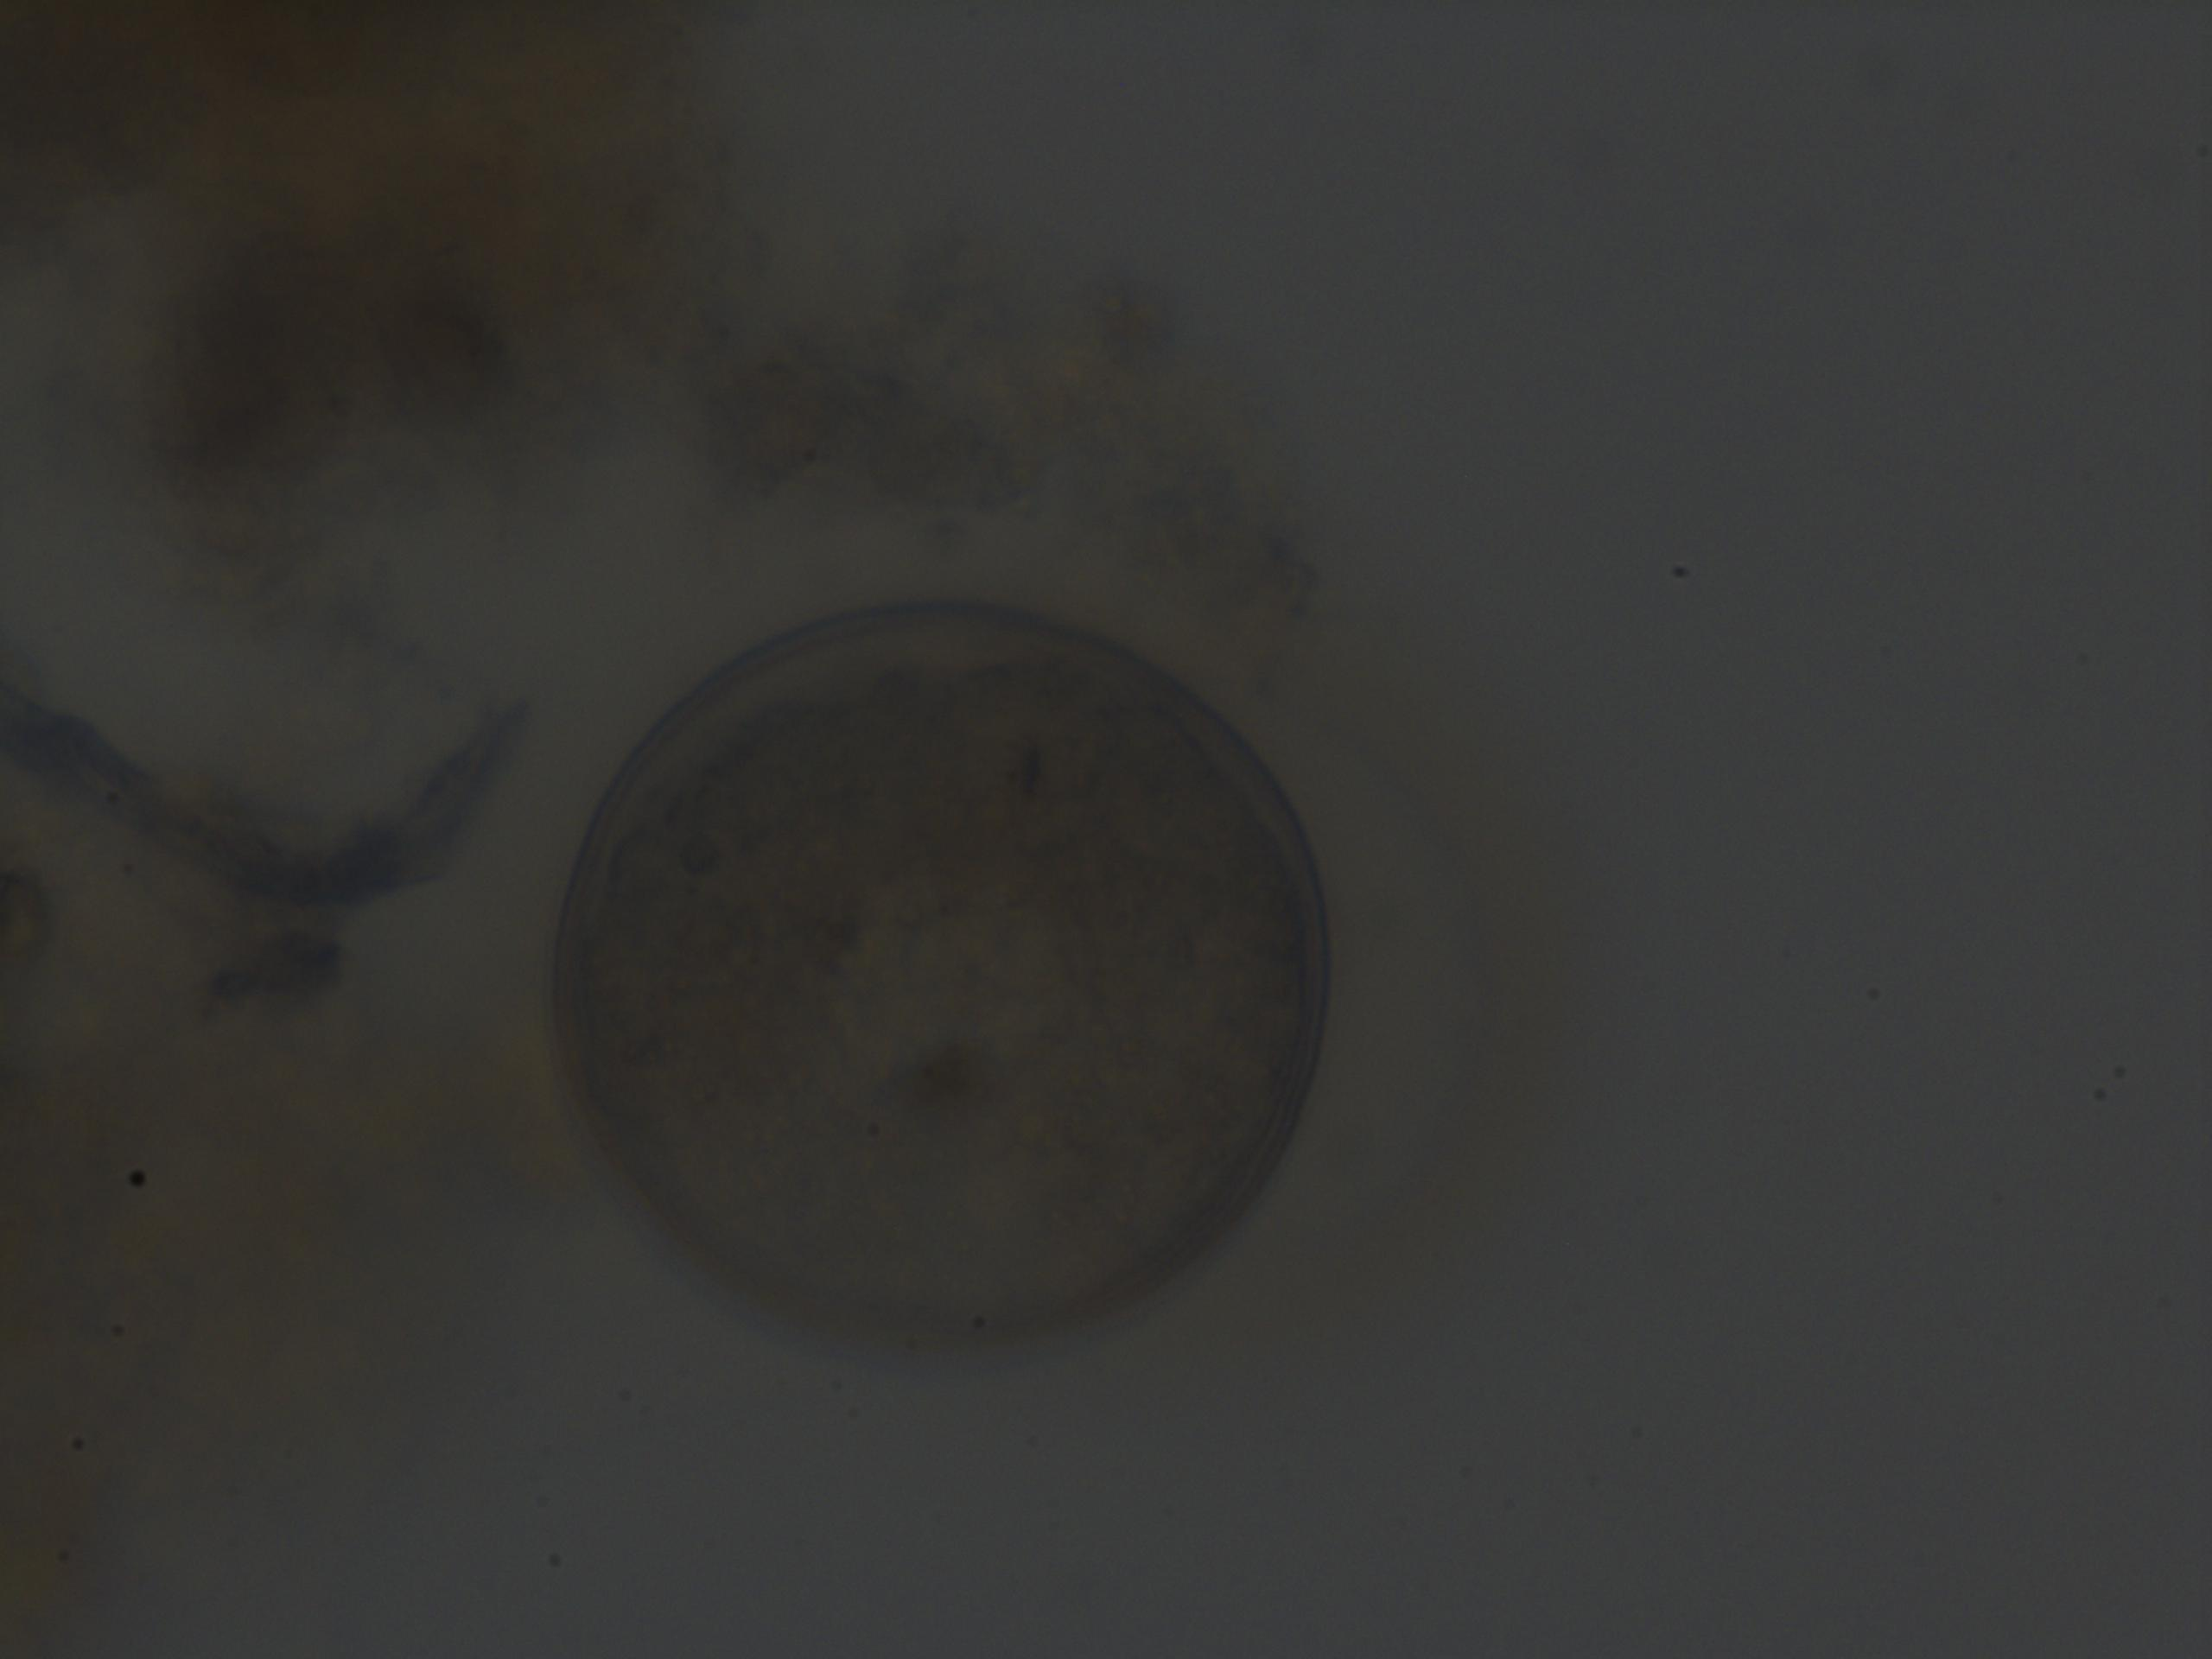protozoa: (550, 587, 1362, 1391)
